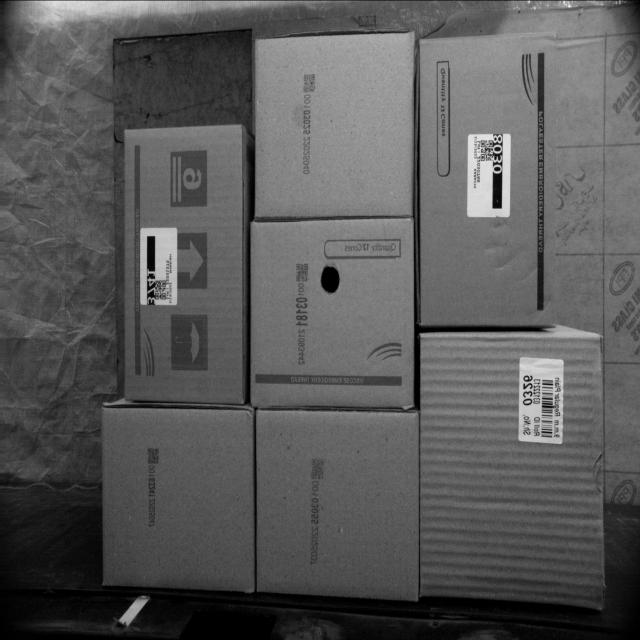cardboxes: (421, 336, 602, 604), (414, 31, 561, 330), (125, 123, 246, 401), (255, 403, 418, 601), (252, 215, 416, 411), (252, 29, 416, 220), (102, 409, 249, 589)
